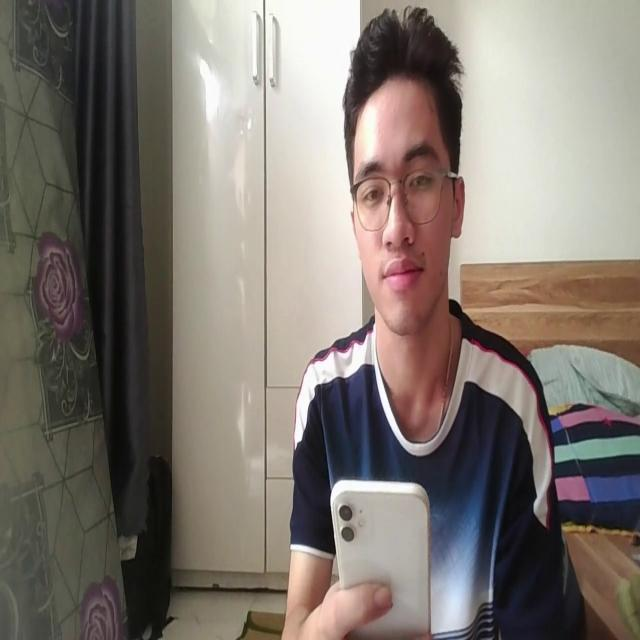phone: (328, 470, 435, 640)
student: (283, 3, 570, 640)
